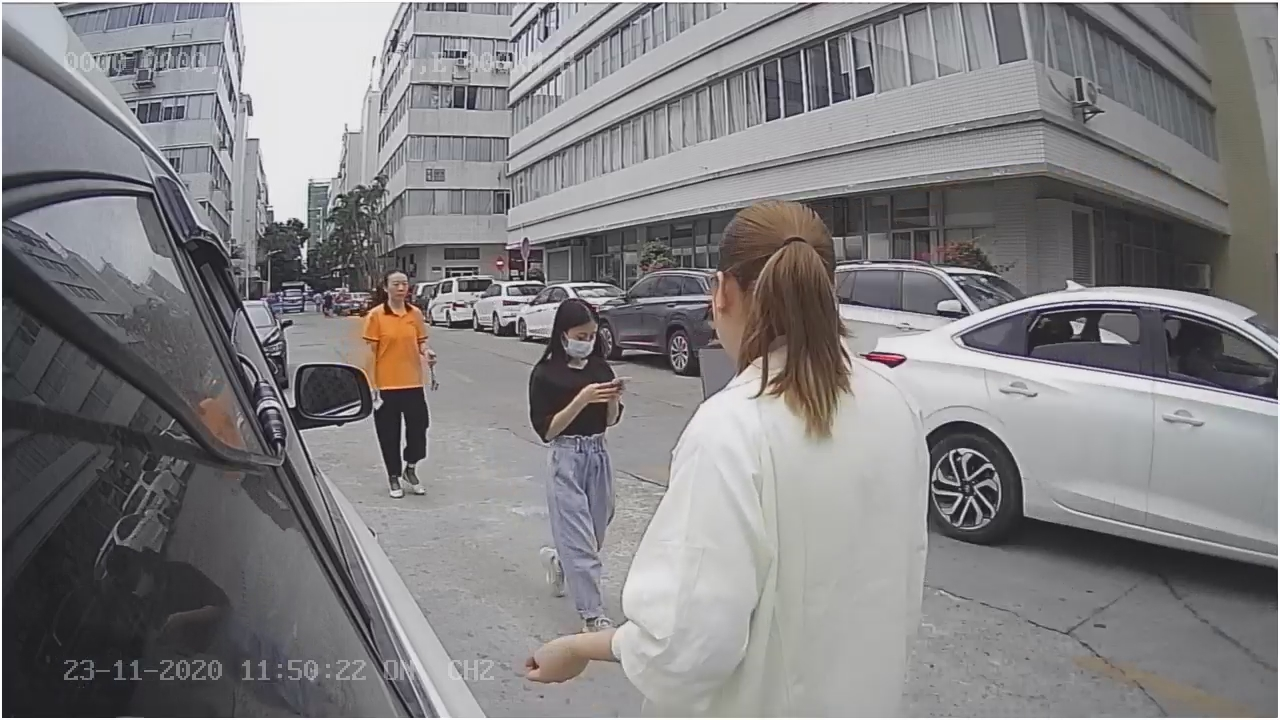person: (517, 295, 625, 630), (365, 262, 440, 496)
